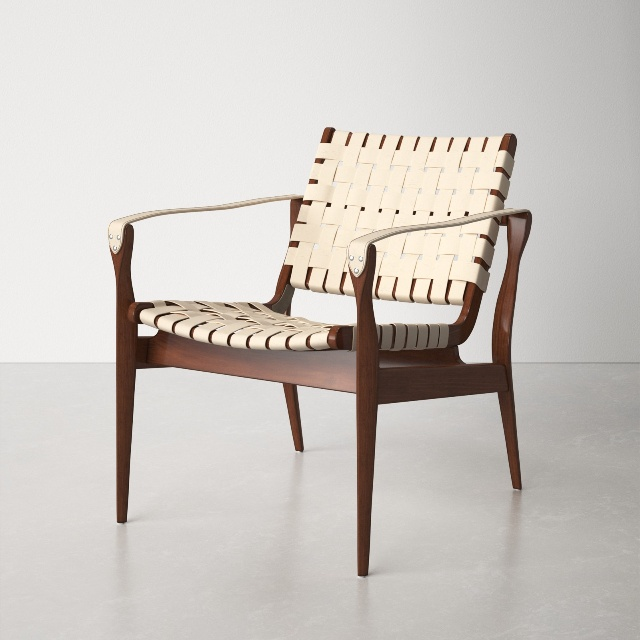obstacle: (108, 128, 531, 576)
